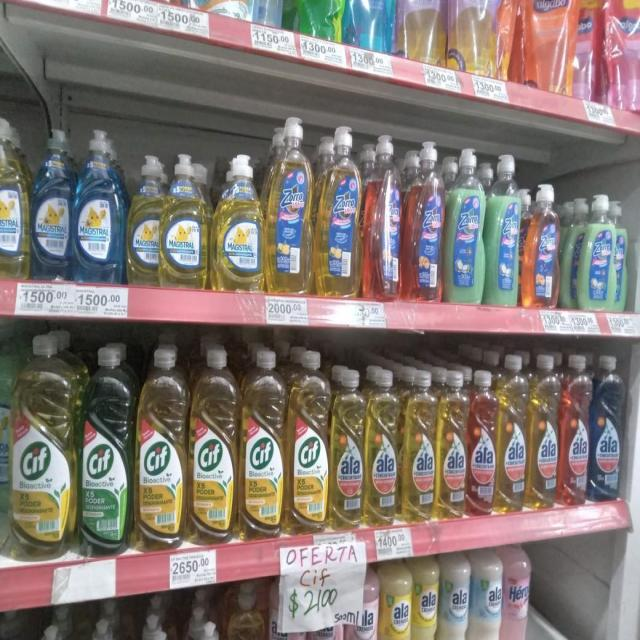ala_conc_amarillo: (330, 365, 364, 530), (366, 366, 400, 528), (402, 368, 436, 522), (528, 354, 558, 511), (498, 354, 527, 516), (437, 368, 467, 520)
ala_conc_azul: (590, 354, 624, 503)
ala_conc_rojo: (560, 352, 590, 507), (469, 368, 496, 518)
ala_crem_amarillo: (378, 559, 410, 640), (411, 555, 437, 640)
ala_crem_blanco: (468, 548, 500, 640), (438, 552, 468, 640)
ala_crem_rosado: (347, 563, 377, 640), (310, 577, 342, 640)
cif_conc_bot_amarilla: (10, 332, 76, 560), (136, 344, 187, 550), (189, 347, 237, 545), (240, 348, 285, 540), (287, 349, 329, 536)
cif_conc_botella_verde: (79, 343, 133, 556)
heroe: (500, 545, 530, 640)
magistral_con_amarillo: (213, 153, 264, 292), (162, 152, 210, 288), (0, 116, 29, 279), (127, 154, 162, 286), (127, 613, 176, 640), (78, 619, 125, 640), (179, 620, 225, 640)
magistral_con_azul: (74, 128, 124, 284), (32, 126, 72, 281)
odex: (224, 582, 267, 640)
zorro: (266, 115, 312, 294), (315, 124, 361, 298), (363, 132, 401, 301), (404, 138, 443, 302), (446, 146, 484, 304), (486, 152, 521, 307), (580, 193, 619, 312), (524, 182, 560, 310)
